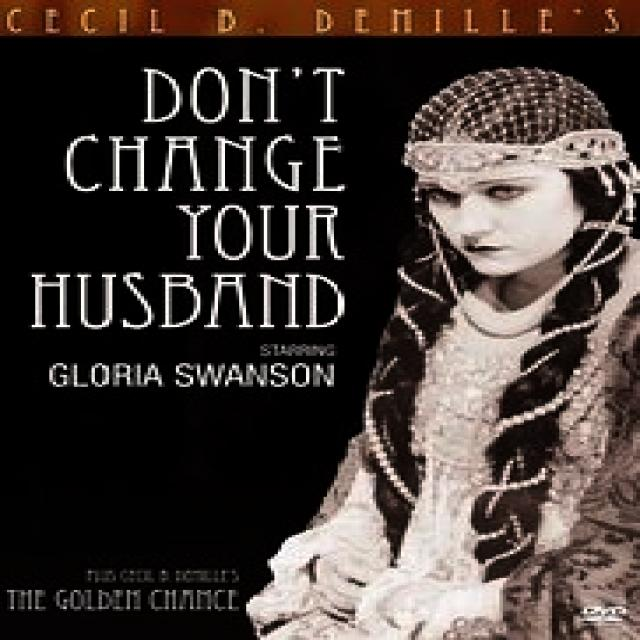movie-judul: (20, 57, 358, 334)
picture: (369, 59, 640, 640)
